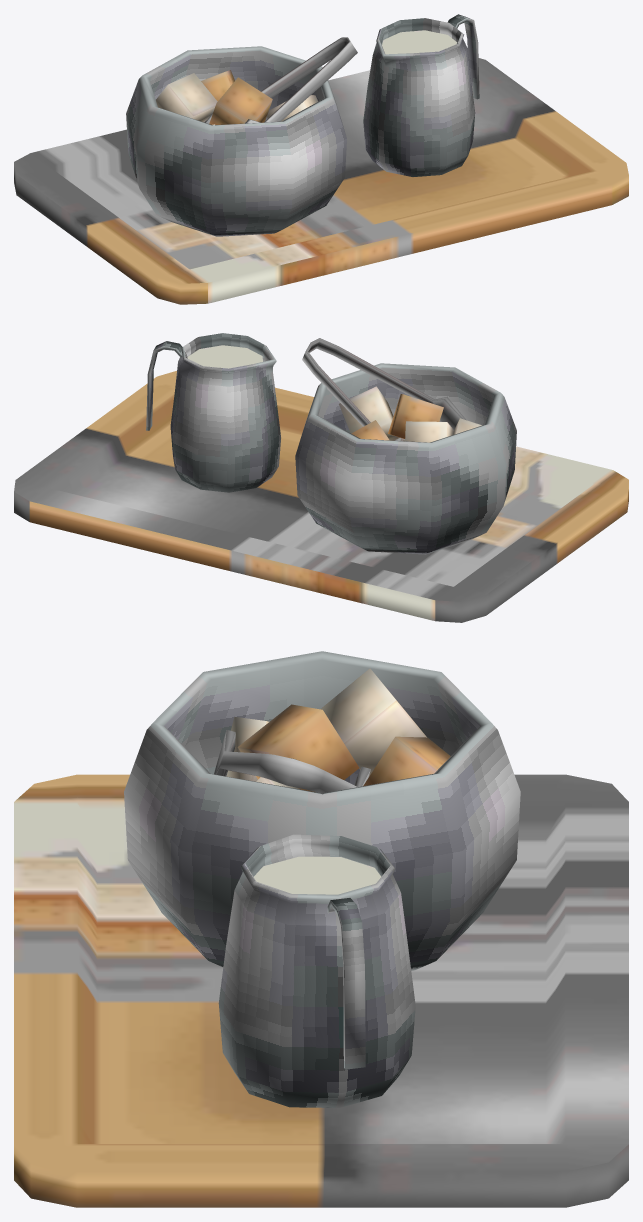
The model's file is int_oth_sugar_milk.dae.
3 views of the same model, one above another, from view 1: azimuth 30°, elevation 25°; view 2: azimuth 150°, elevation 25°; view 3: azimuth 270°, elevation 25° (orthographic). The views are drawn at different scales.
Parts seen in each view (by area): view 1: int_oth_sugar_milk; view 2: int_oth_sugar_milk; view 3: int_oth_sugar_milk.
Part boxes in pixels (x1,y1,x2,y2): int_oth_sugar_milk: [14, 14, 628, 304]; int_oth_sugar_milk: [14, 333, 628, 622]; int_oth_sugar_milk: [14, 651, 628, 1207].
Size of the model in its own units: 24.87 by 7.82 by 16.28.
2 materials, 2 textured.
